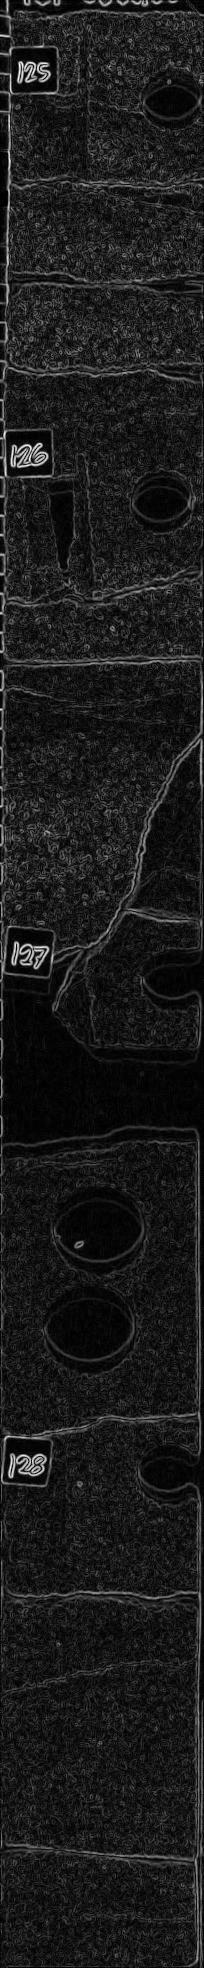hplug: (41, 1180, 154, 1278), (38, 1278, 146, 1378), (126, 53, 204, 139), (121, 462, 204, 540), (125, 1433, 204, 1507), (131, 939, 204, 1018)
vplug: (1, 13, 98, 195), (18, 449, 105, 606), (1, 943, 99, 1048)
